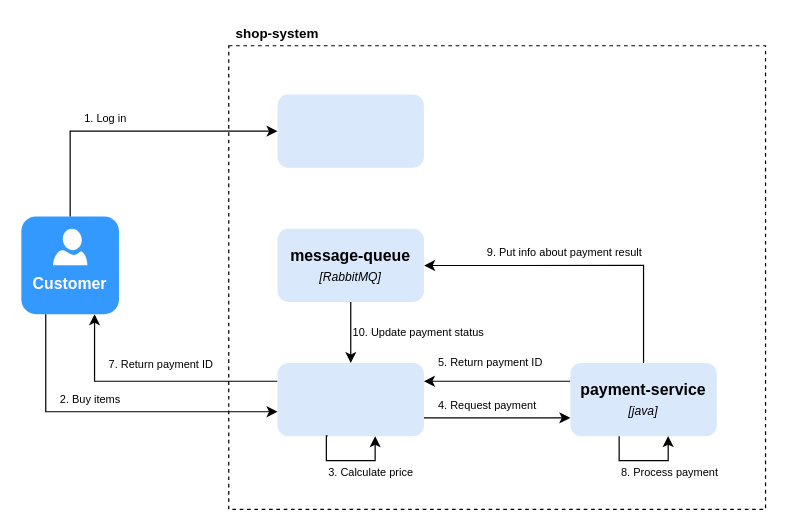
Image size: 787x531. Some labels were removed from this diagram. Here are the shapes that lost their labels. From the top down, the centre of each, then its label:
point 350,130: auth-service [java]
point 350,399: shop-service [java]
